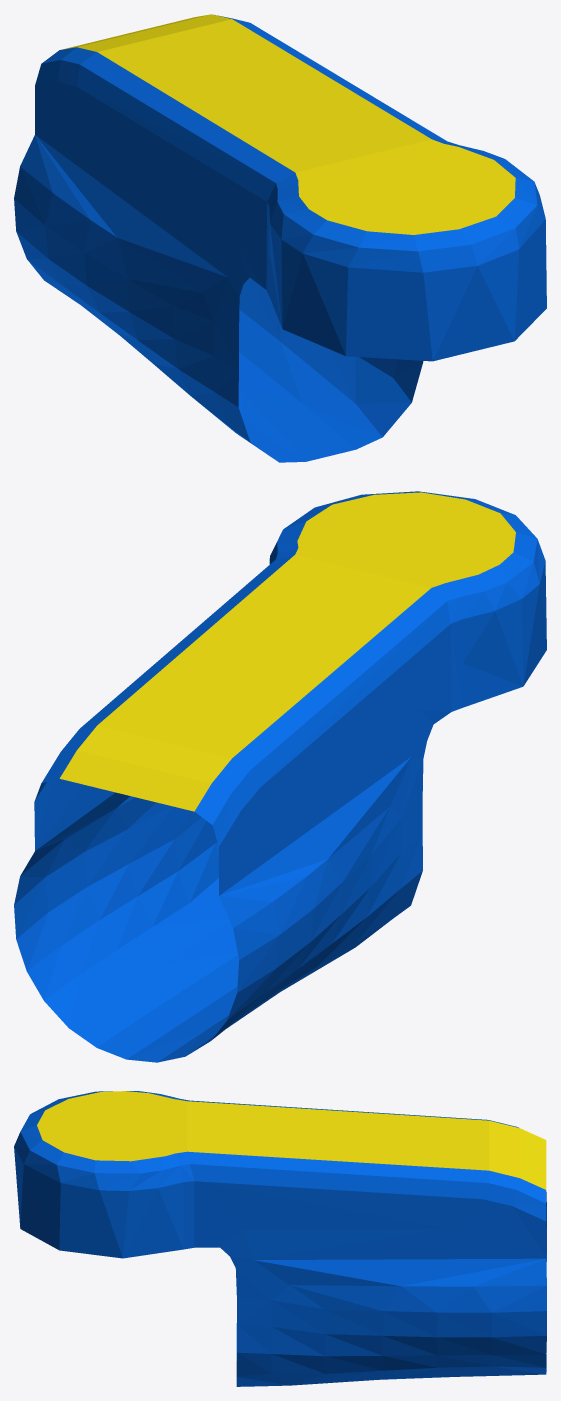
Rendered from LARM_LINK3_mesh.dae.
3 renders of one model, top to bottom at view 1: azimuth 30°, elevation 25°; view 2: azimuth 150°, elevation 25°; view 3: azimuth 270°, elevation 25°, orthographic. The views are drawn at different scales.
Parts seen in each view (by area): view 1: LARM_LINK3 (×2); view 2: LARM_LINK3 (×2); view 3: LARM_LINK3 (×2).
Part boxes in pixels (left/top/right/bottom): LARM_LINK3 (×2): left=14, top=14, right=546, bottom=462; LARM_LINK3 (×2): left=14, top=491, right=546, bottom=1062; LARM_LINK3 (×2): left=14, top=1091, right=546, bottom=1386.
Size of the model in its own units: 0.0769 by 0.0985 by 0.1937.
